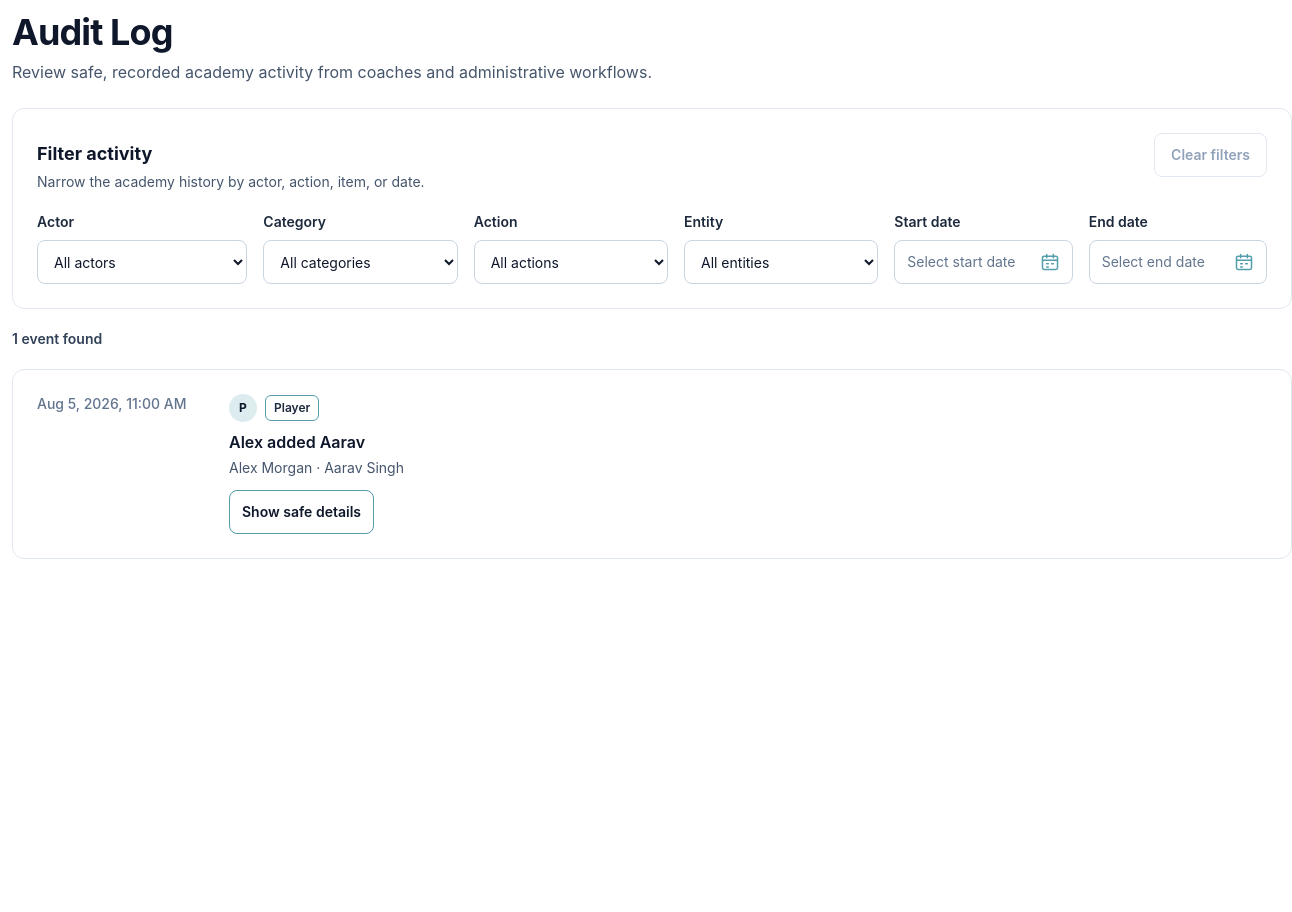
Test: BusinessAuditLogPage › keeps audit controls and event disclosures accessible on narrow screens
expect the text "Alex added Aarav" is shown: met, box [229,432,365,452]
Click the button "Show safe details": (302, 512) [229,490,374,534]
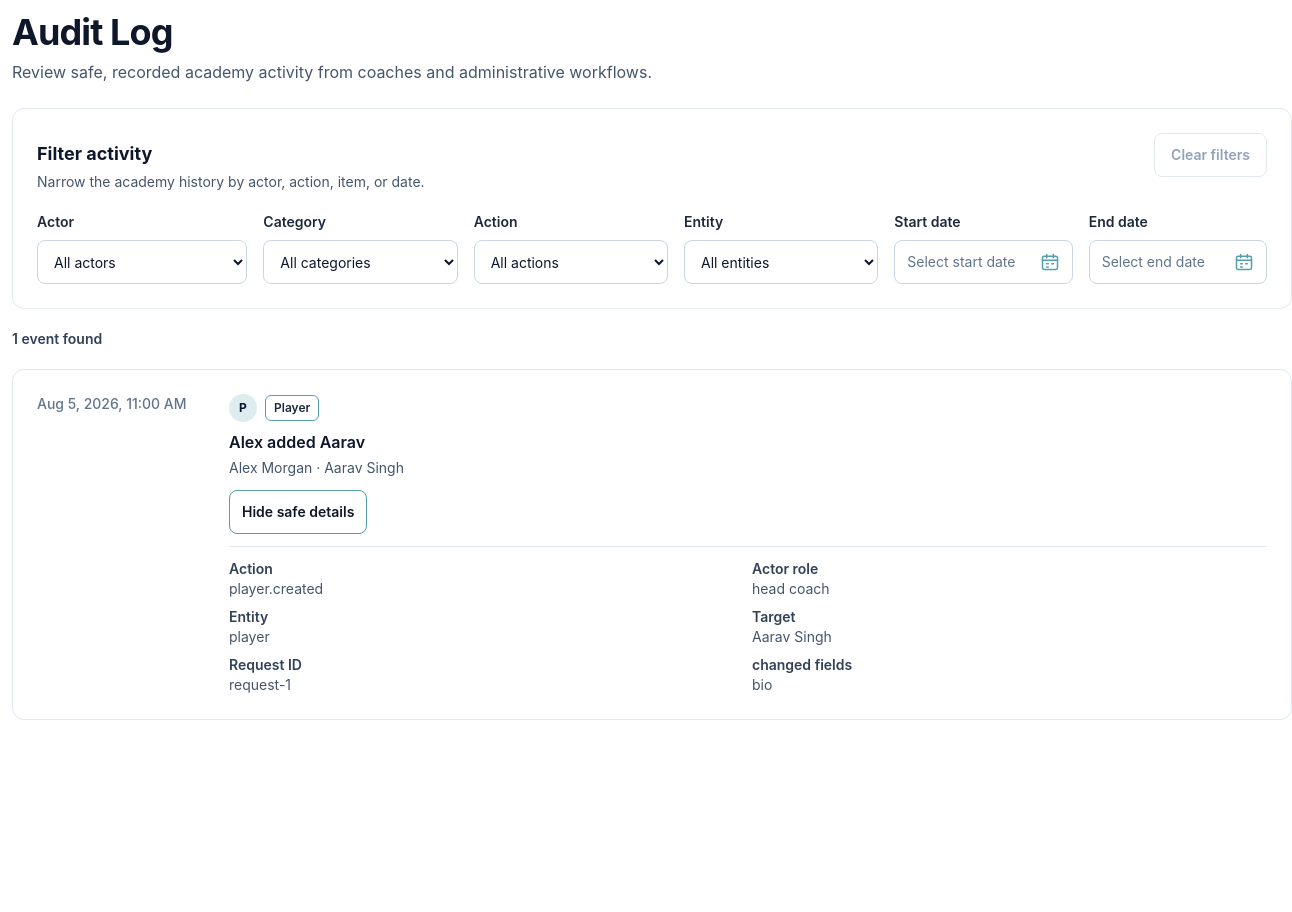
expect the button "Hide safe details" is expanded: met
expect the text "request-1" is shown: met, box [229,676,291,693]
Click the button "Hide safe details": (298, 512) [229,490,367,534]
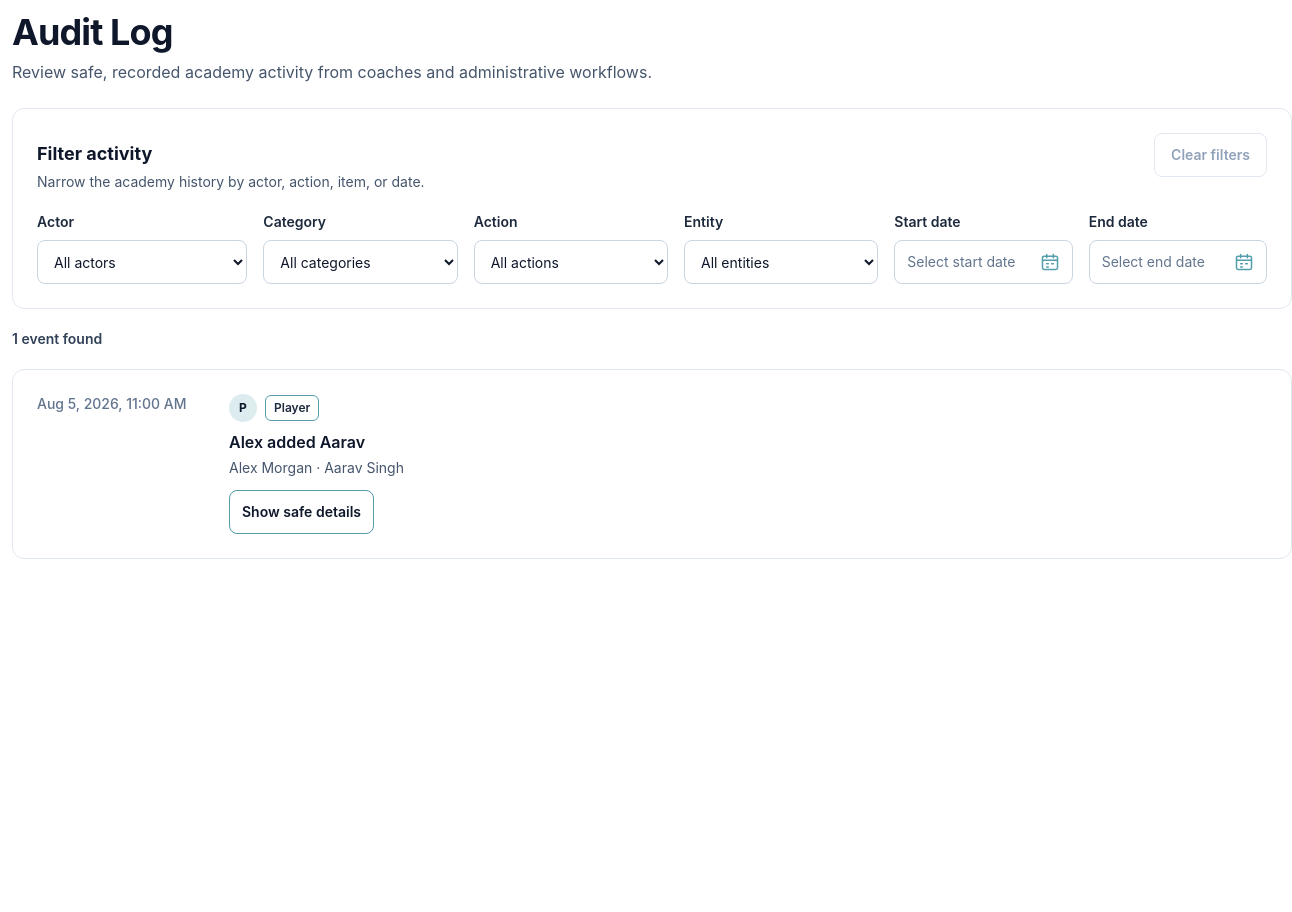
expect the button "Show safe details" is collapsed: met, box [229,490,374,534]
expect the text "request-1" is gone: met
